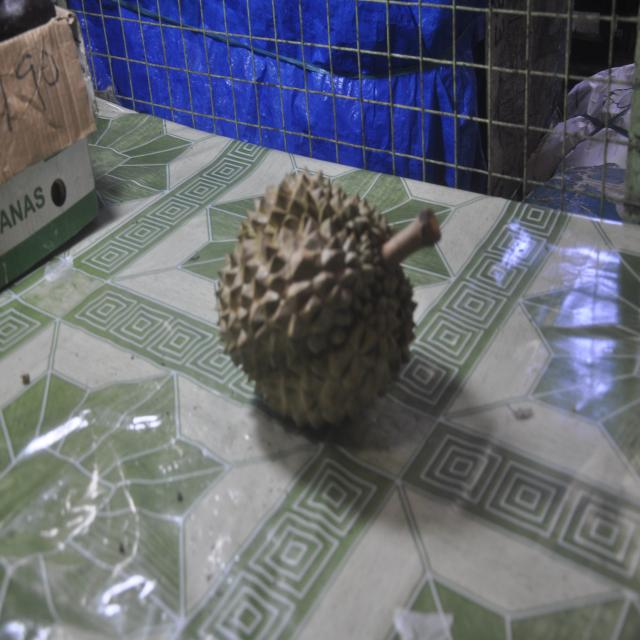mature: (208, 147, 452, 453)
